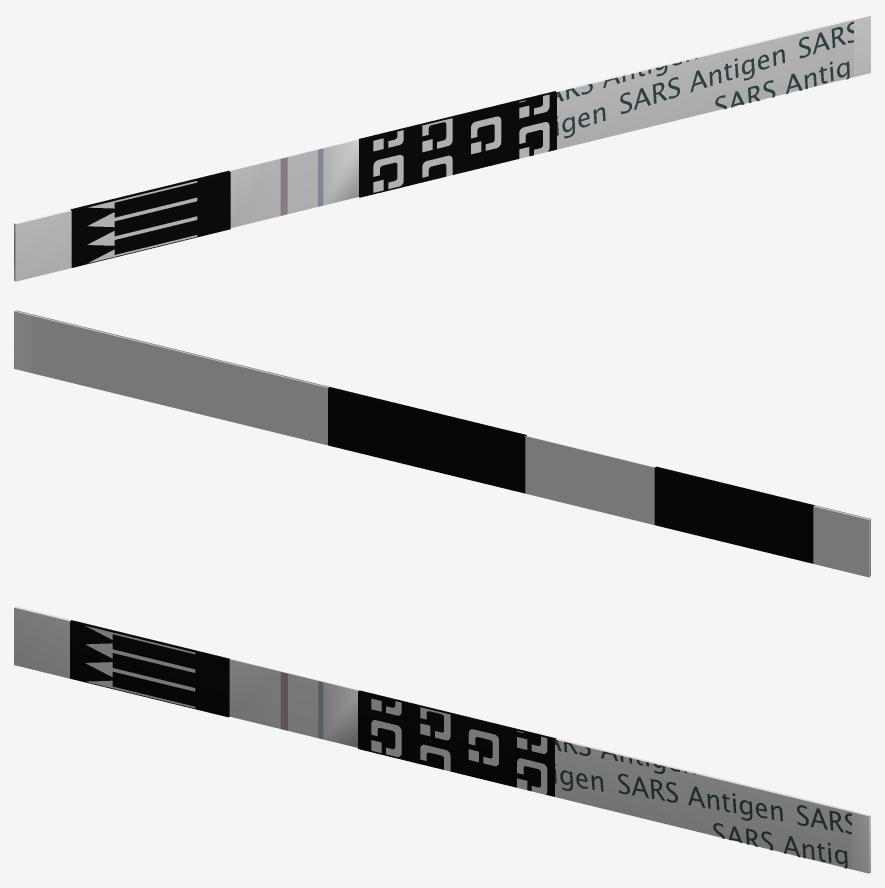
Rendered from covid_test.glb.
3 views of the same model, one above another, from view 1: azimuth 30°, elevation 25°; view 2: azimuth 150°, elevation 25°; view 3: azimuth 330°, elevation 25° (orthographic).
Parts seen in each view (by area): view 1: MainBody; view 2: MainBody; view 3: MainBody.
Boxes of the visible parts, x1,y1,x2,y2 form: MainBody: [14, 14, 870, 281]; MainBody: [14, 310, 870, 577]; MainBody: [14, 606, 870, 873].
Size of the model in its own units: 0.0841 by 0.00544 by 0.000315.
